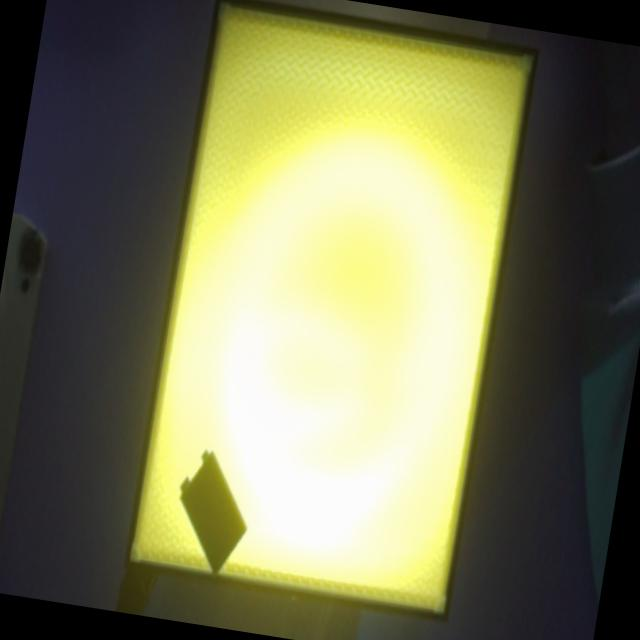bateria: (180, 450, 248, 577)
mesa: (124, 0, 540, 623)
